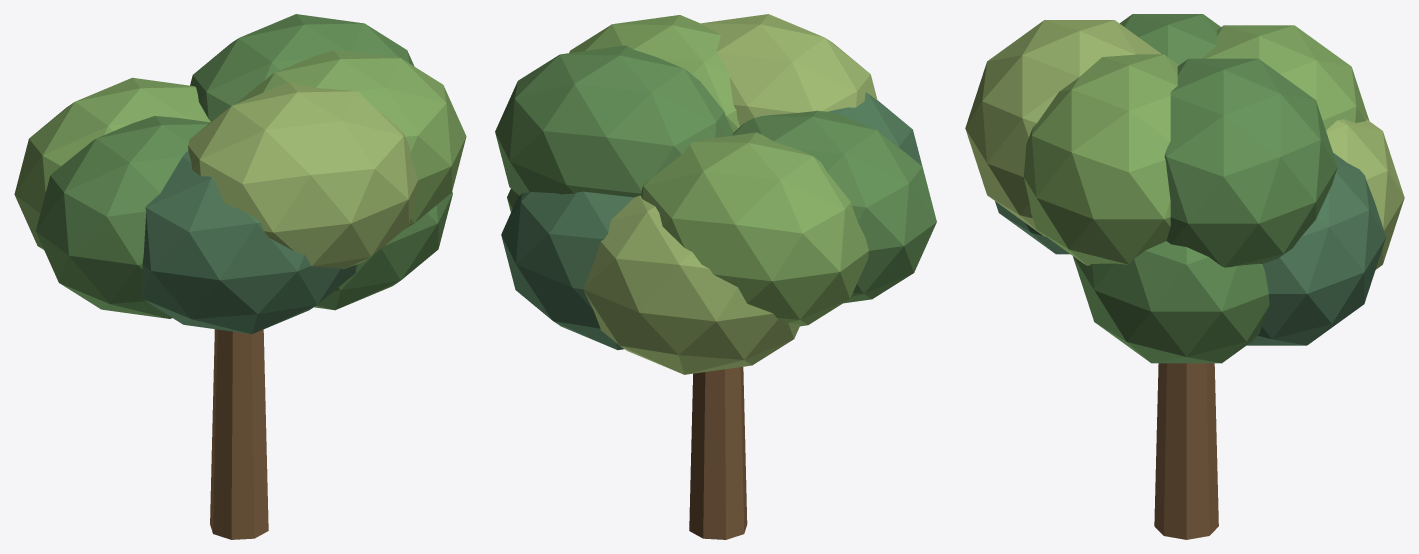
File: tree.glb
3 renders of one model, left to right at view 1: azimuth 30°, elevation 25°; view 2: azimuth 150°, elevation 25°; view 3: azimuth 270°, elevation 25°, orthographic. The views are drawn at different scales.
Parts seen in each view (by area): view 1: Broadleaf crown.002, Broadleaf crown.007, Broadleaf crown.004, Broadleaf crown.005, Trunk, Broadleaf crown.001, Broadleaf crown.008, Broadleaf crown; view 2: Broadleaf crown.001, Broadleaf crown.008, Broadleaf crown.006, Broadleaf crown.004, Broadleaf crown.002, Broadleaf crown.003, Trunk, Broadleaf crown.005, Broadleaf crown.007; view 3: Broadleaf crown.008, Broadleaf crown.005, Broadleaf crown, Broadleaf crown.002, Broadleaf crown.003, Trunk, Broadleaf crown.001, Broadleaf crown.006, Broadleaf crown.004, Broadleaf crown.007.
Part boxes in pixels (x1=…): Broadleaf crown.002: x1=188, y1=82, x2=417, y2=269; Broadleaf crown.007: x1=141, y1=151, x2=357, y2=334; Broadleaf crown.004: x1=36, y1=116, x2=209, y2=318; Broadleaf crown.005: x1=236, y1=50, x2=466, y2=229; Trunk: x1=210, y1=329, x2=268, y2=539; Broadleaf crown.001: x1=14, y1=77, x2=210, y2=249; Broadleaf crown.008: x1=190, y1=14, x2=414, y2=121; Broadleaf crown: x1=314, y1=192, x2=452, y2=310; Broadleaf crown.001: x1=640, y1=132, x2=868, y2=326; Broadleaf crown.008: x1=495, y1=45, x2=733, y2=197; Broadleaf crown.006: x1=583, y1=195, x2=800, y2=374; Broadleaf crown.004: x1=732, y1=110, x2=936, y2=303; Broadleaf crown.002: x1=701, y1=14, x2=877, y2=126; Broadleaf crown.003: x1=501, y1=191, x2=633, y2=349; Trunk: x1=689, y1=367, x2=747, y2=539; Broadleaf crown.005: x1=569, y1=15, x2=739, y2=132; Broadleaf crown.007: x1=829, y1=92, x2=922, y2=166; Broadleaf crown.008: x1=1164, y1=58, x2=1337, y2=267; Broadleaf crown.005: x1=1023, y1=54, x2=1178, y2=265; Broadleaf crown: x1=1073, y1=241, x2=1269, y2=363; Broadleaf crown.002: x1=965, y1=20, x2=1161, y2=236; Broadleaf crown.003: x1=1247, y1=153, x2=1385, y2=345; Trunk: x1=1154, y1=363, x2=1218, y2=539; Broadleaf crown.001: x1=1203, y1=25, x2=1369, y2=130; Broadleaf crown.006: x1=1326, y1=119, x2=1404, y2=269; Broadleaf crown.004: x1=1120, y1=14, x2=1220, y2=64; Broadleaf crown.007: x1=995, y1=201, x2=1069, y2=254.
Size of the model in its own units: 3.58 by 4.1 by 3.27.
